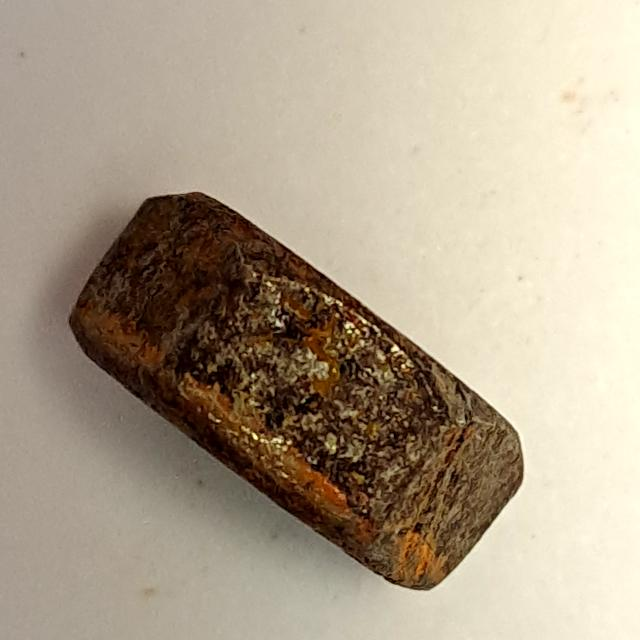Rust: (49, 173, 542, 603)
